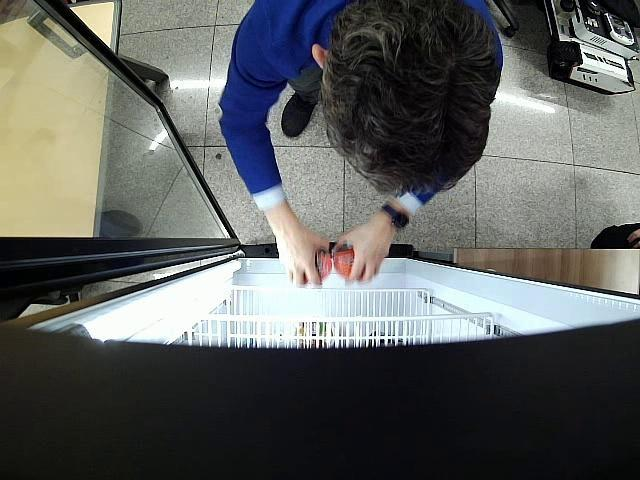02_shinRamen_S: (334, 243, 365, 278), (303, 248, 332, 284)
